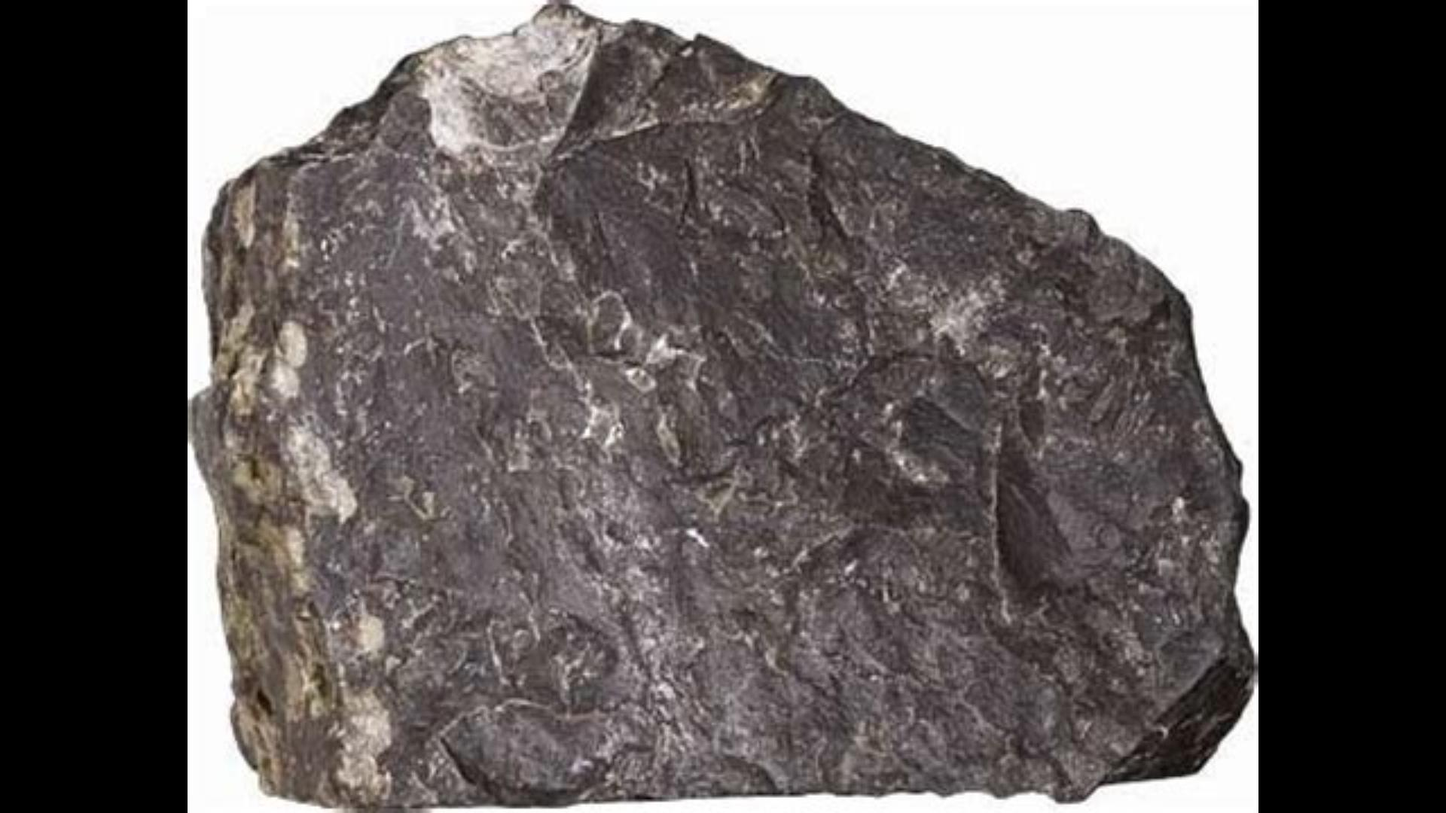rock: (194, 5, 1238, 811)
